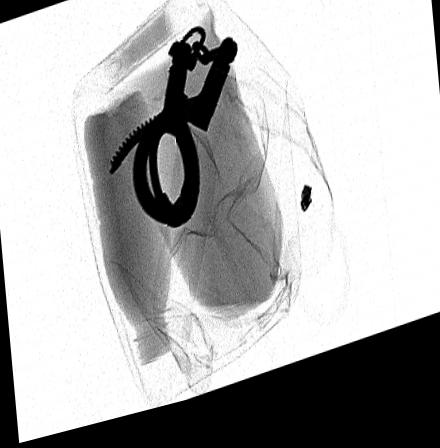HandCuffs: (109, 35, 238, 238)
